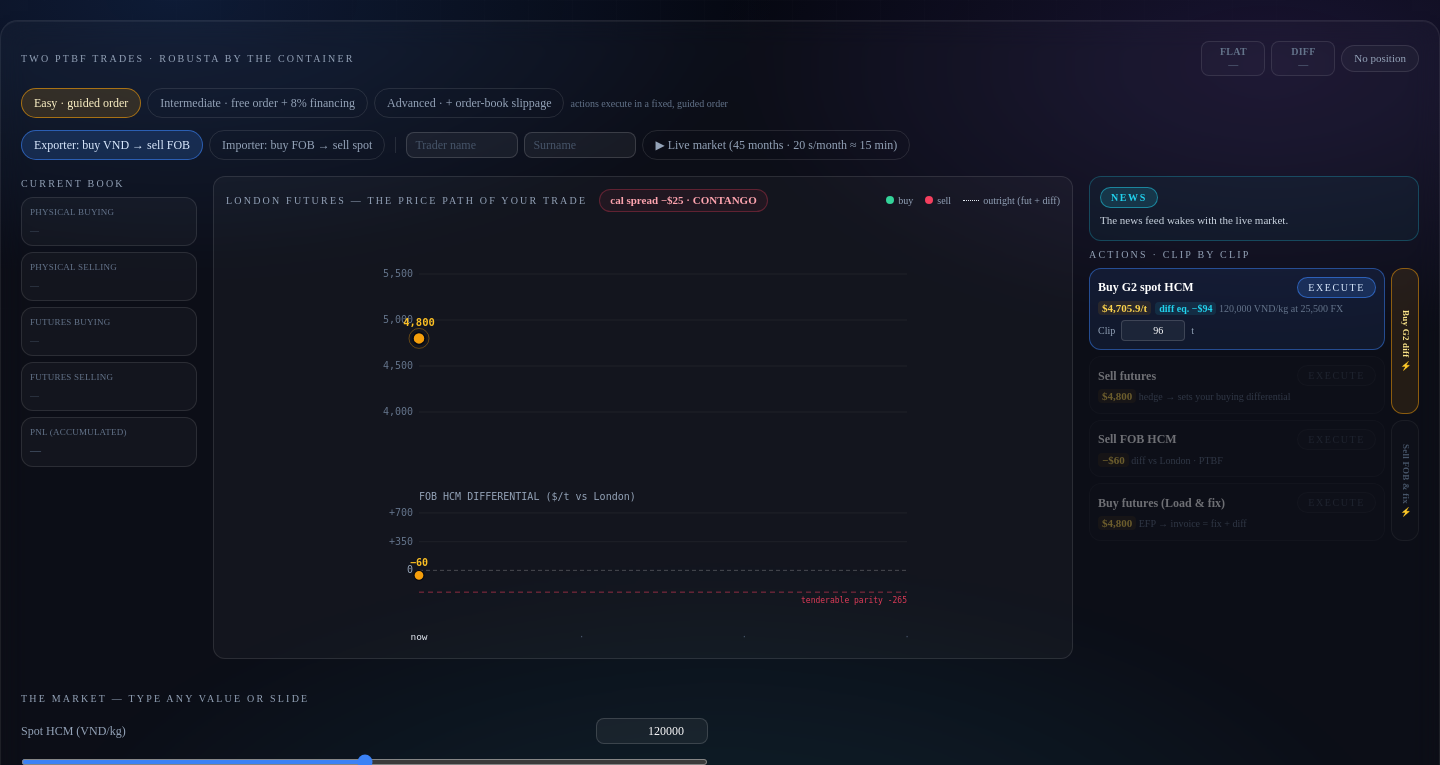
Test: PtbfMechanics exporter trade: VND buy → hedge sets buying diff → FOB sale → fix
Click the button with aria-label "Buy G2 spot HCM": (1337, 287) [1297,277,1376,298]
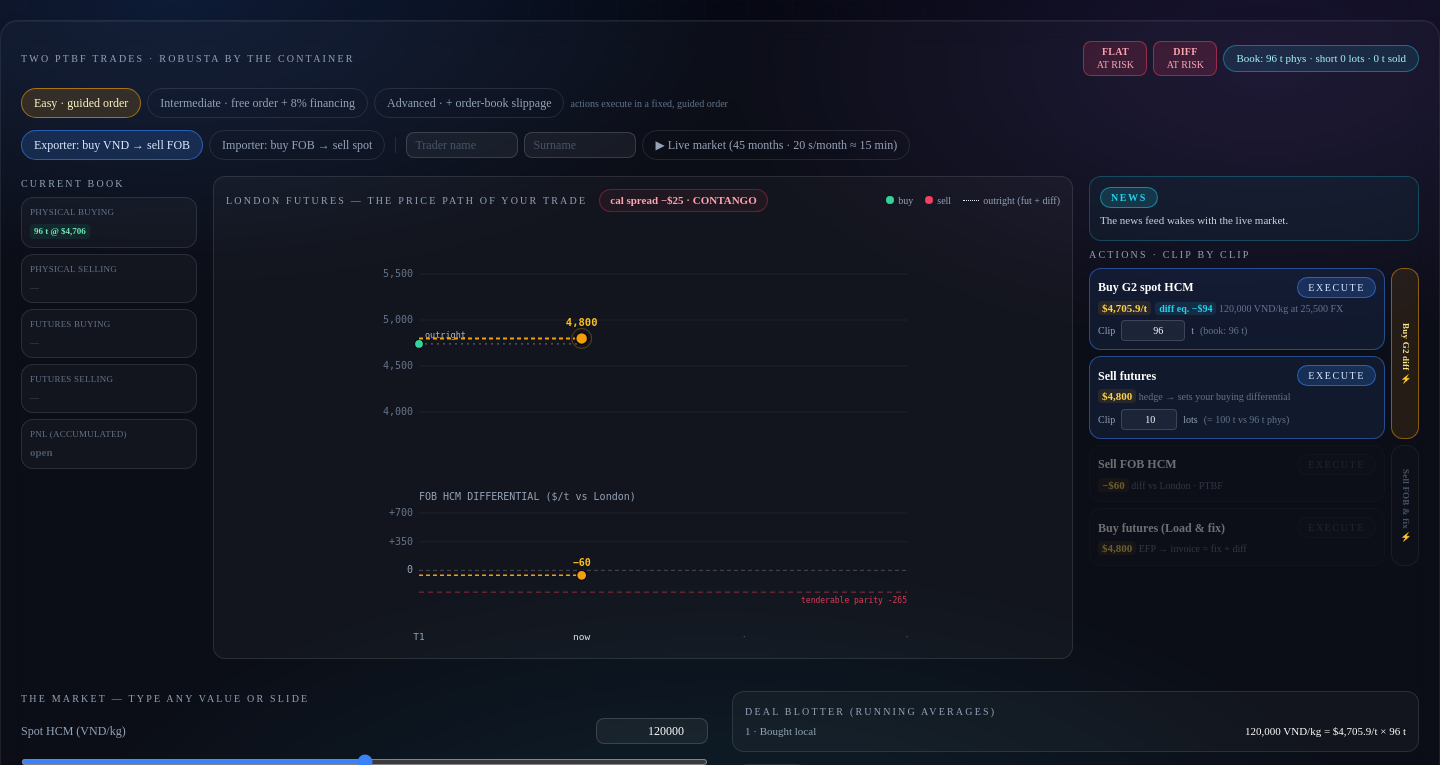
Expected: the text "96 t @ $4,706" is shown, [30,224,90,239]
Expected: the element with test id "risk-flat" shows "AT RISK", [1097,58,1134,70]
Expected: the element with test id "risk-diff" shows "AT RISK", [1167,58,1204,70]
Click the button with aria-label "Sell futures": (1337, 376) [1297,365,1376,386]
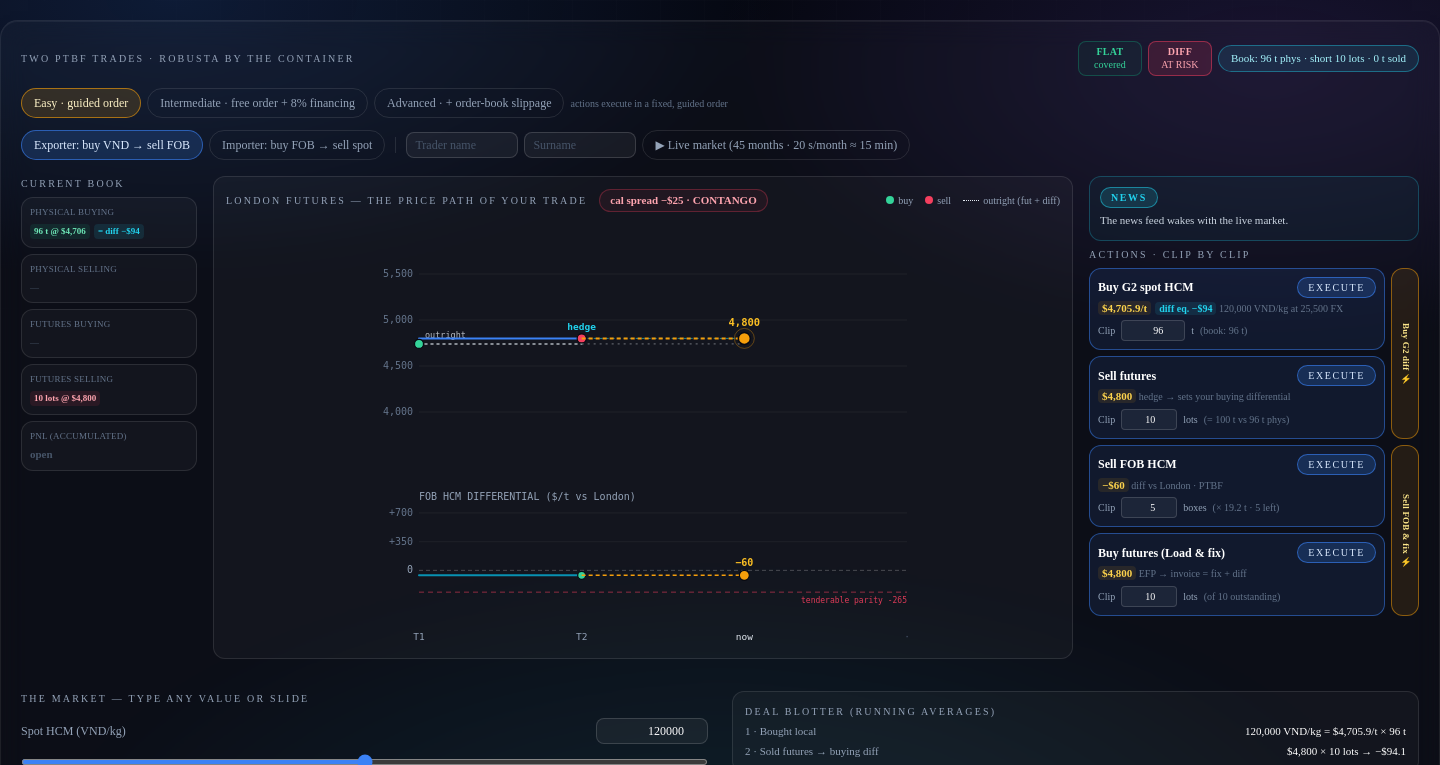
Expected: the element with test id "risk-diff" shows "AT RISK", [1161,58,1198,70]
Expected: the text "−$94.1" is shown, [1375,745,1406,757]
Expected: the element with test id "risk-flat" shows "covered", [1094,58,1126,70]
Steps 3 & 4 at unchanged market
Click the button with aria-label "Sell FOB HCM": (1337, 464) [1297,454,1376,475]
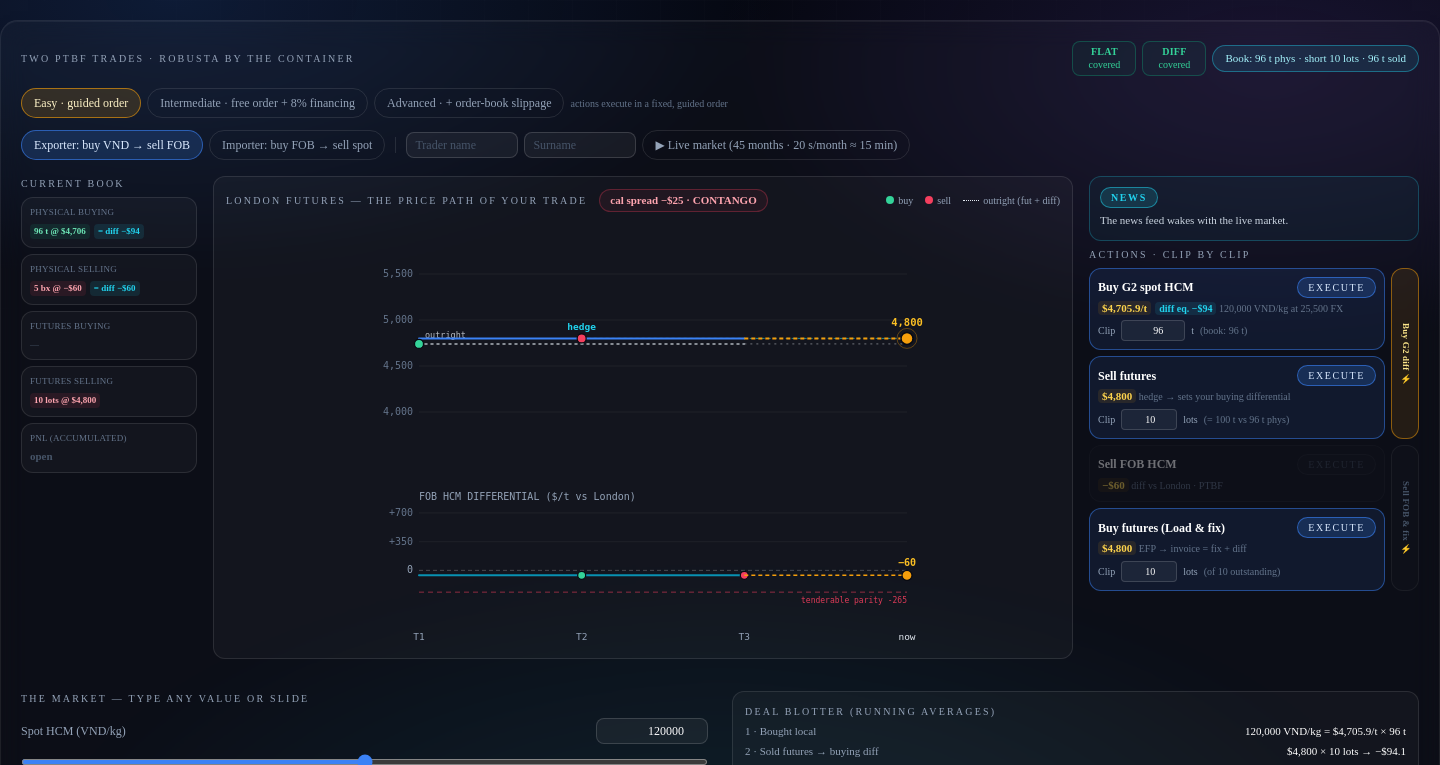
Click the button with aria-label "Buy futures (Load & fix)": (1337, 528) [1297,517,1376,538]
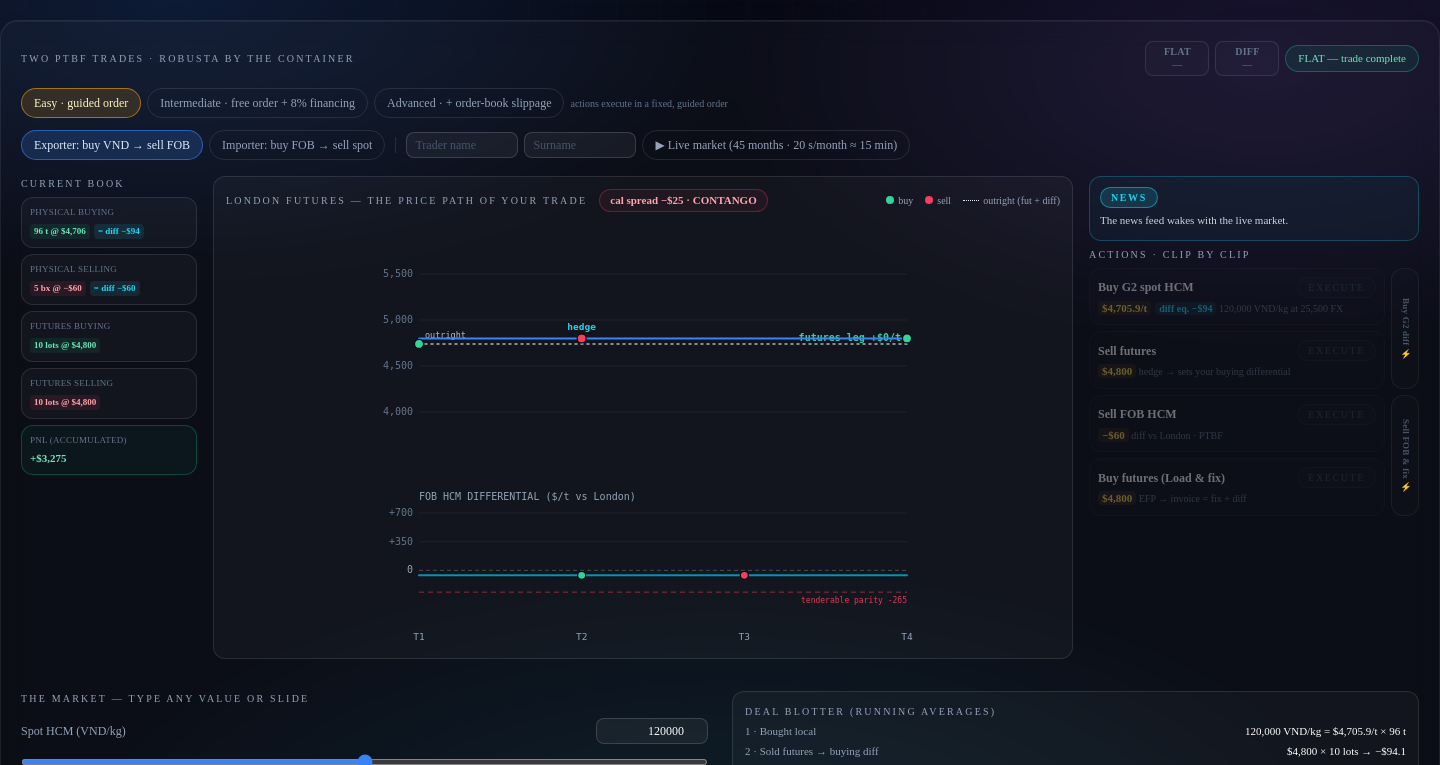
Expected: the text "+$3,275" is shown, [30,452,66,464]
Expected: the text "FLAT — trade complete" is shown, [1285,45,1419,72]
Expected: the text "futures leg +$0/t" is shown, [226,216,1060,646]
